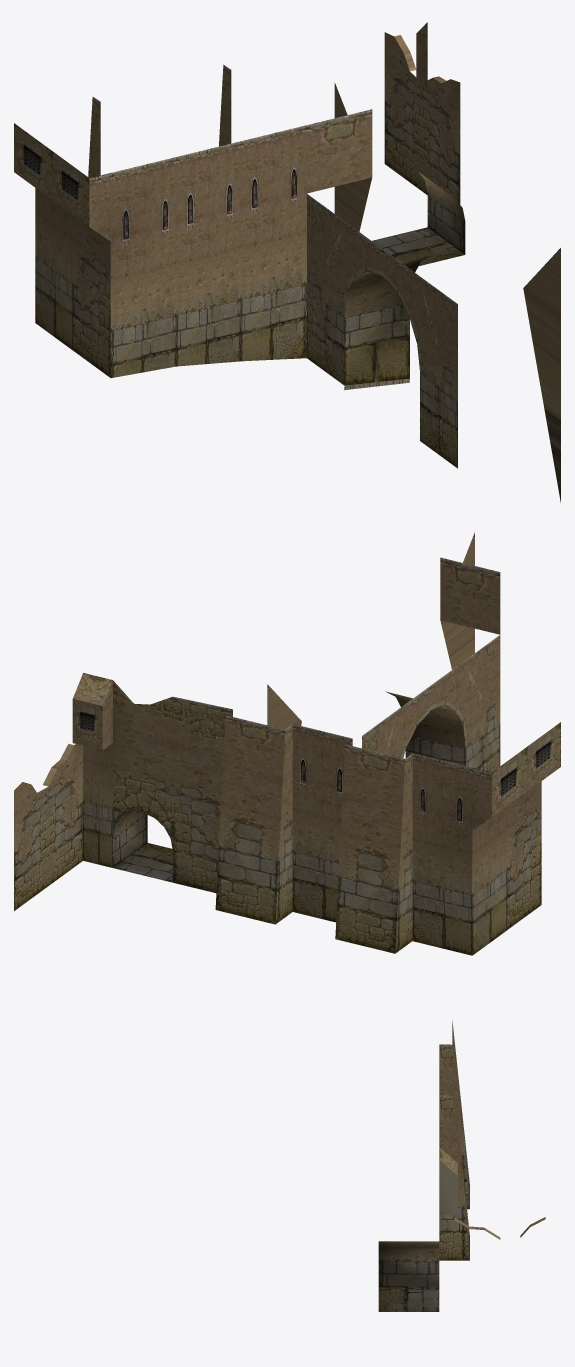
Rendered from M2Zone1_GateOut.glb.
3 views of the same model, one above another, from view 1: azimuth 30°, elevation 25°; view 2: azimuth 150°, elevation 25°; view 3: azimuth 270°, elevation 25° (orthographic). The views are drawn at different scales.
Parts seen in each view (by area): view 1: M2ZONE1_GATEOUT; view 2: M2ZONE1_GATEOUT; view 3: M2ZONE1_GATEOUT.
Part boxes in pixels (x1,y1,x2,y2): M2ZONE1_GATEOUT: [14, 22, 560, 502]; M2ZONE1_GATEOUT: [14, 532, 560, 955]; M2ZONE1_GATEOUT: [378, 1020, 545, 1311].
Size of the model in its own units: 27.7 by 15 by 36.
Materials: 5 (5 with a texture image).
